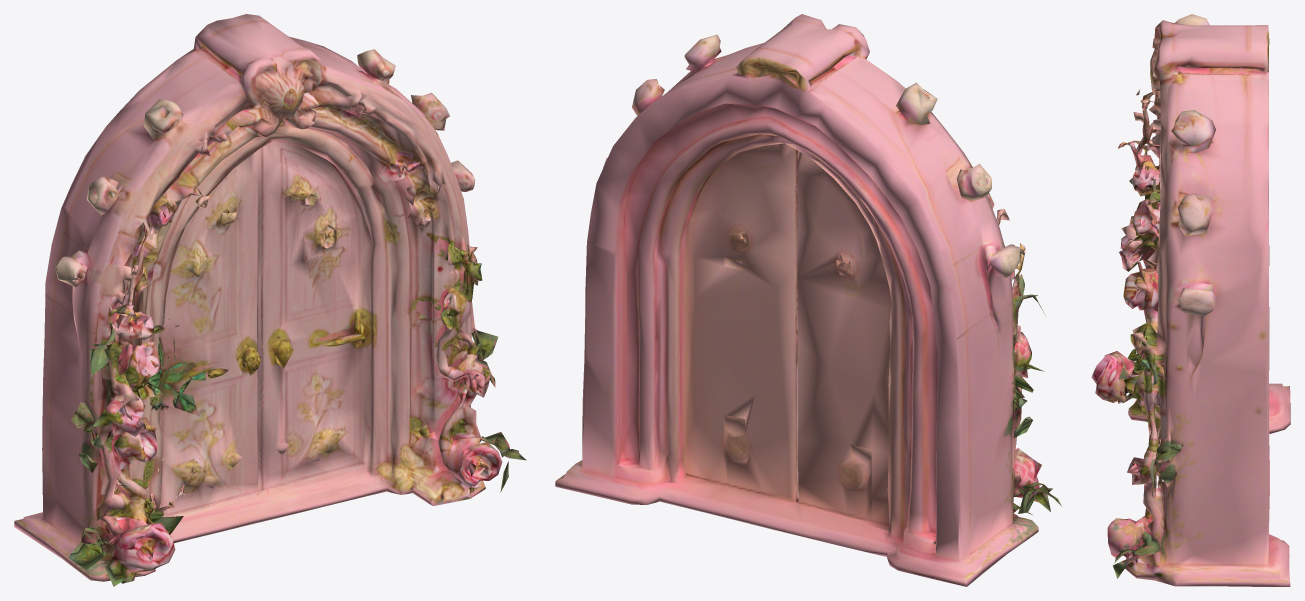
File: Meshy_AI__Object_Ornate_1016070030_texture.fbx
3 renders of one model, left to right at view 1: azimuth 30°, elevation 25°; view 2: azimuth 150°, elevation 25°; view 3: azimuth 270°, elevation 25°, orthographic. The views are drawn at different scales.
Visible parts, largest first — view 1: Mesh_0; view 2: Mesh_0; view 3: Mesh_0.
Boxes of the visible parts, box(x1,y1,x2,y2) form: Mesh_0: box(14, 14, 526, 586); Mesh_0: box(555, 14, 1061, 586); Mesh_0: box(1091, 14, 1290, 586).
Size of the model in its own units: 198 by 200 by 79.14.
Materials: 1 (1 with a texture image).
